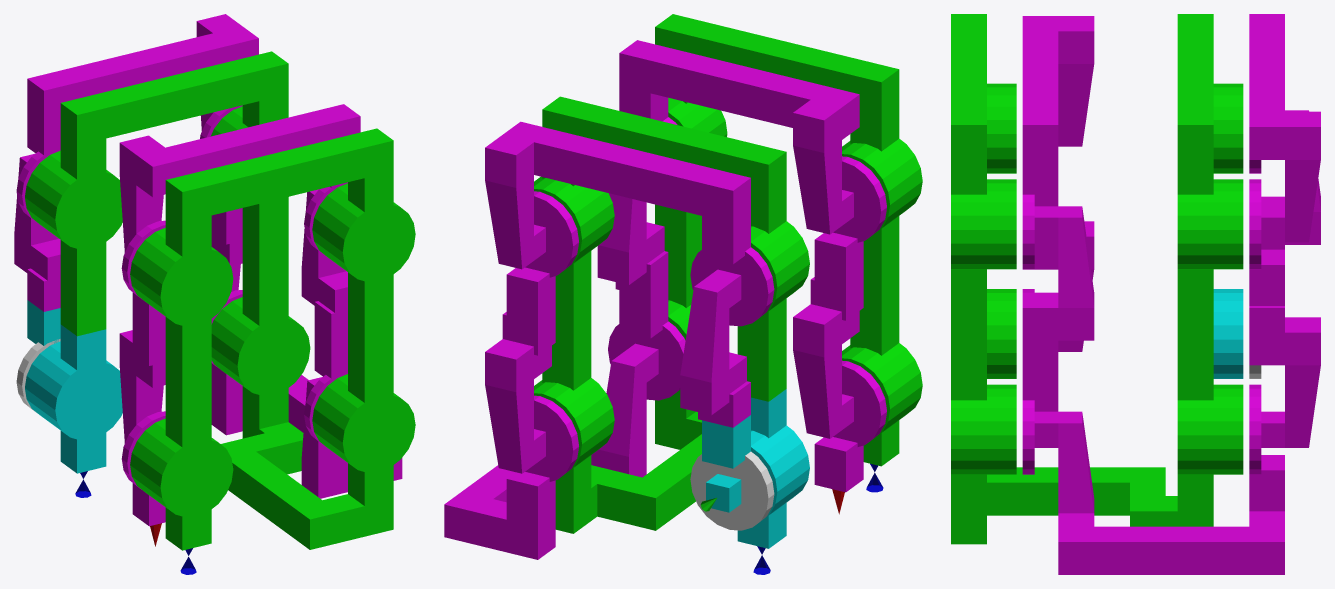
3 renders of one model, left to right at view 1: azimuth 30°, elevation 25°; view 2: azimuth 150°, elevation 25°; view 3: azimuth 270°, elevation 25°, orthographic. The views are drawn at different scales.
Visible parts, largest first — view 1: world; view 2: world; view 3: world.
Boxes of the visible parts, box(x1,y1,x2,y2) form: world: box(14, 14, 415, 574); world: box(444, 14, 922, 574); world: box(951, 14, 1320, 574).
Bounding box in the file's own units: 0.608 × 0.7752 × 0.62.
